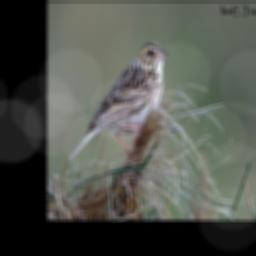Sparrow: (67, 40, 169, 162)
